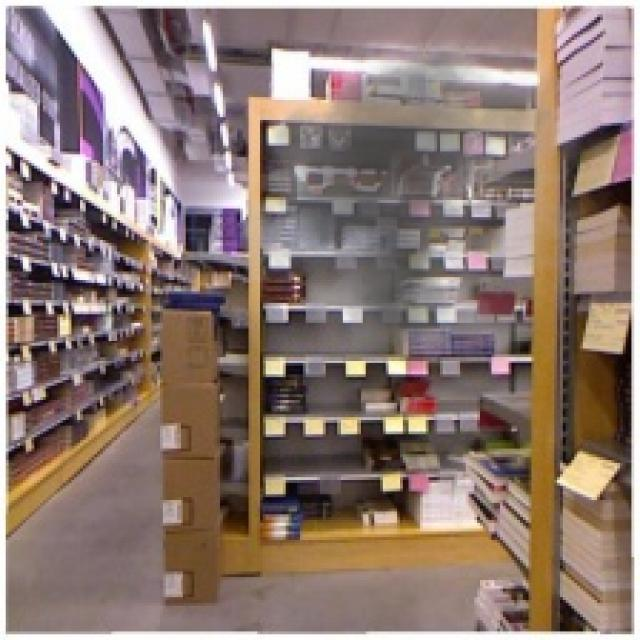Smoke: (223, 22, 626, 372)
